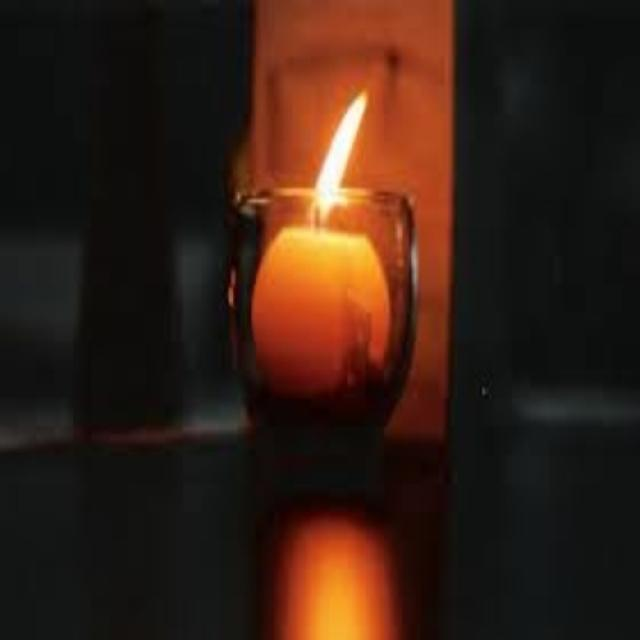Fire: (294, 63, 374, 228)
